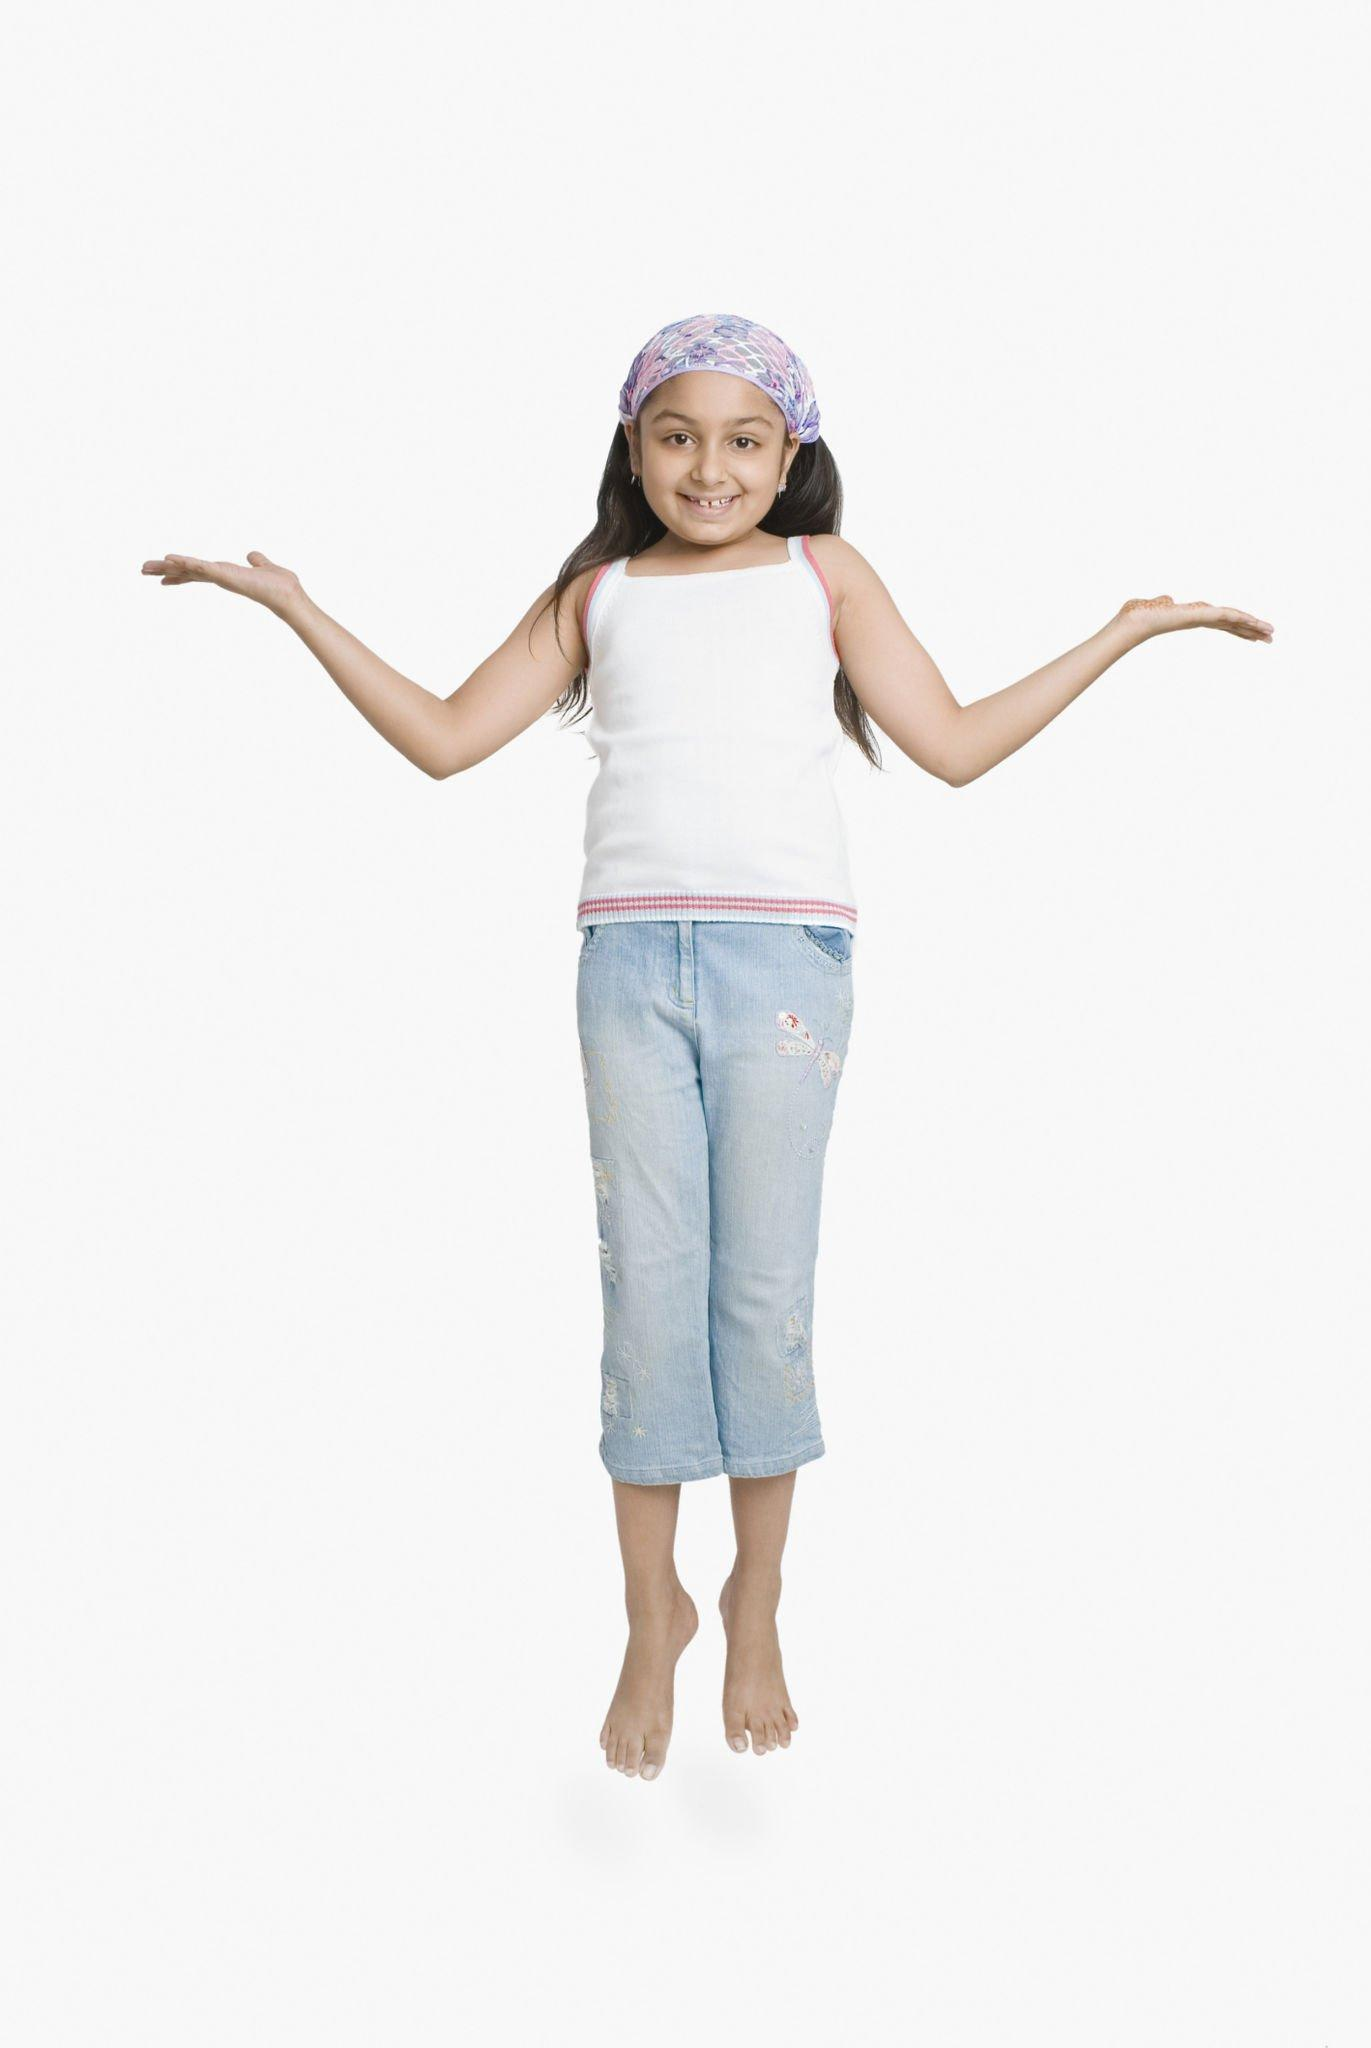Healthy: (609, 376, 797, 555)
